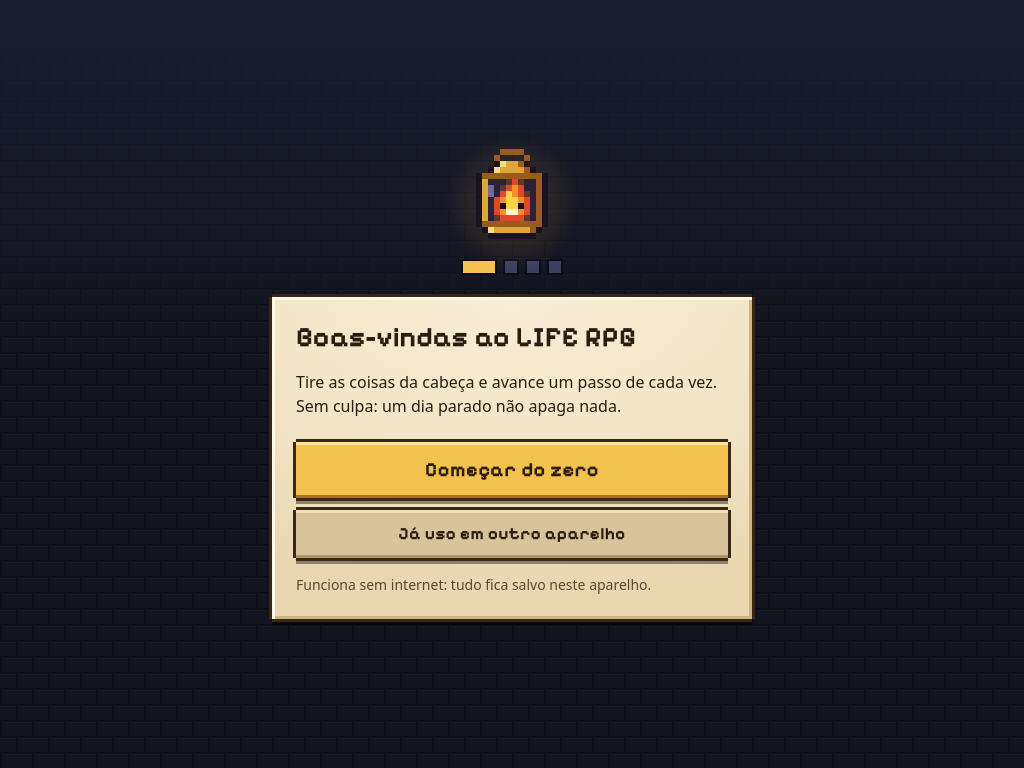
Onboarding › access code: a failed first download stays on the code step and says so
Step 1. Click the button "Já uso em outro aparelho" → [512, 534], box [296, 510, 728, 558]
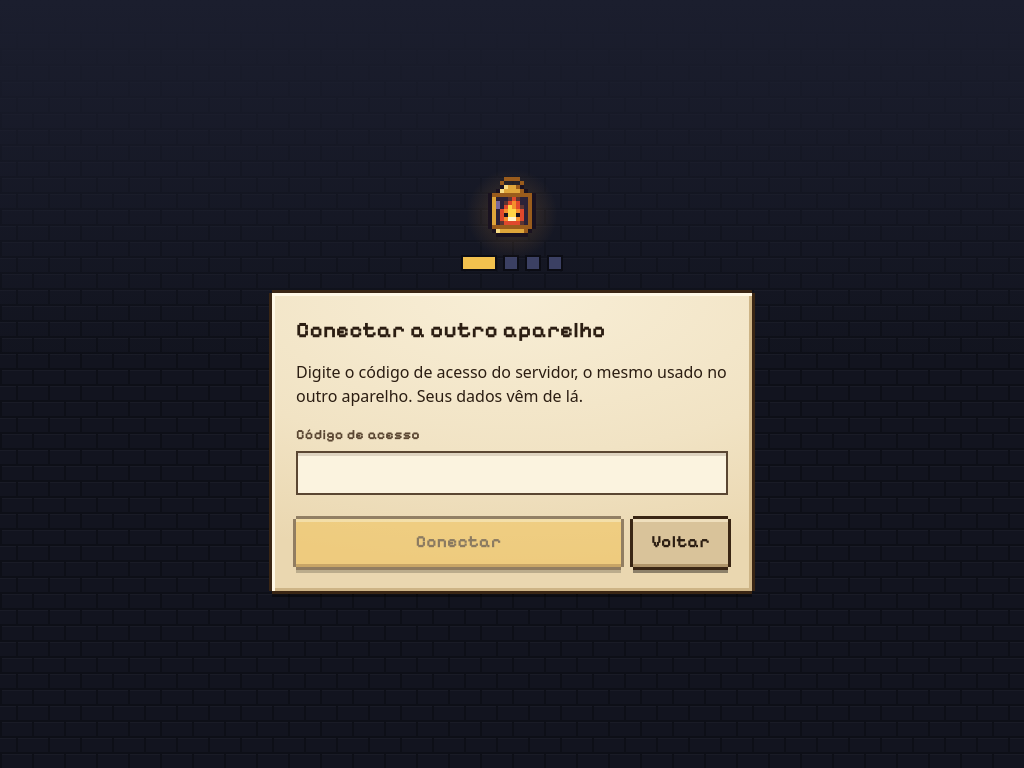
Step 2. Type "tok" into the field labelled "Código de acesso" → [512, 473], box [296, 451, 728, 495]
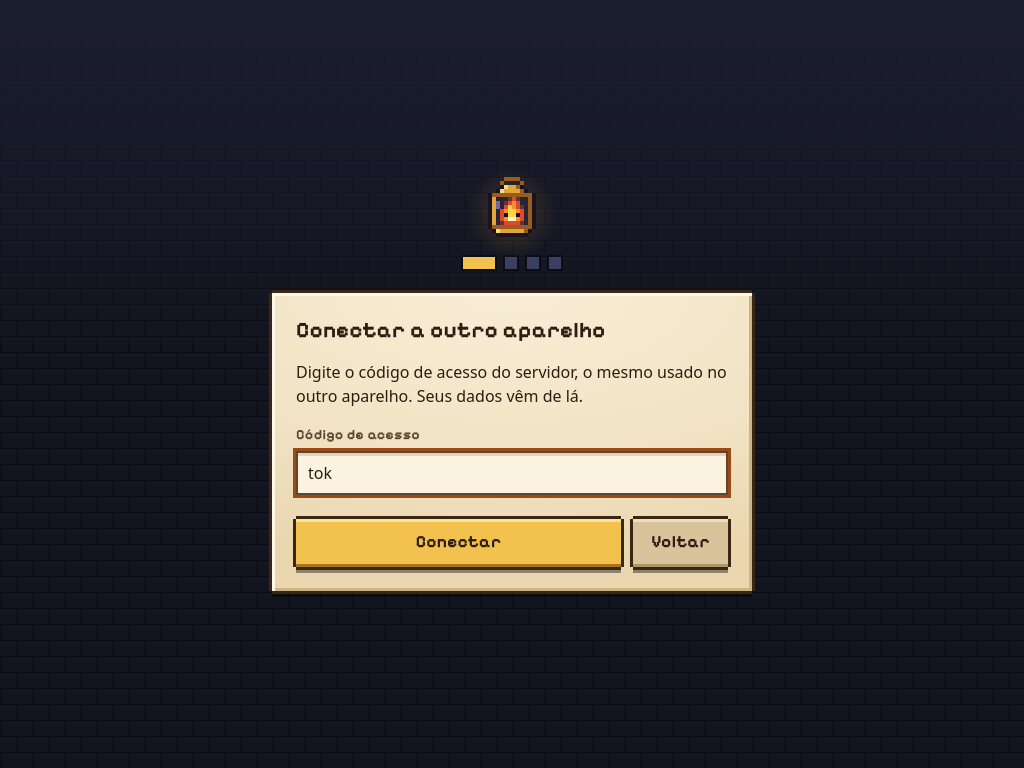
Step 3. Click the button "Conectar" → [459, 543], box [296, 519, 621, 567]
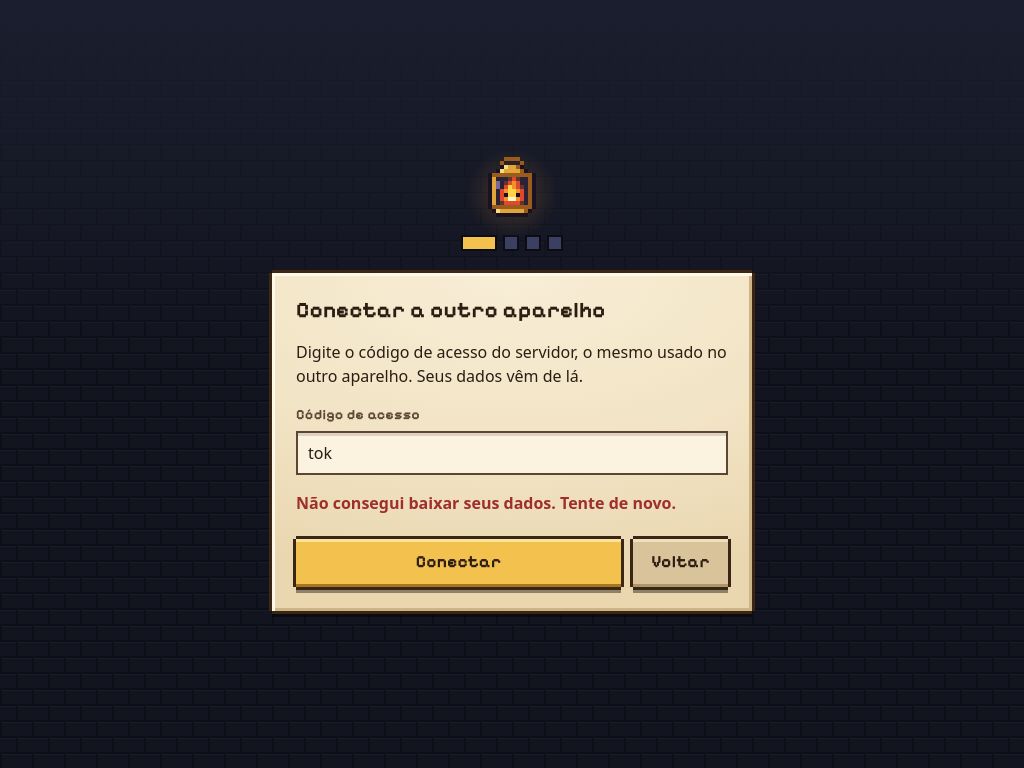
expect the button "Conectar" is enabled: met, box [296, 539, 621, 587]
expect the text "Não consegui baixar seus dados. Tente de novo." is shown: met, box [296, 491, 728, 515]
